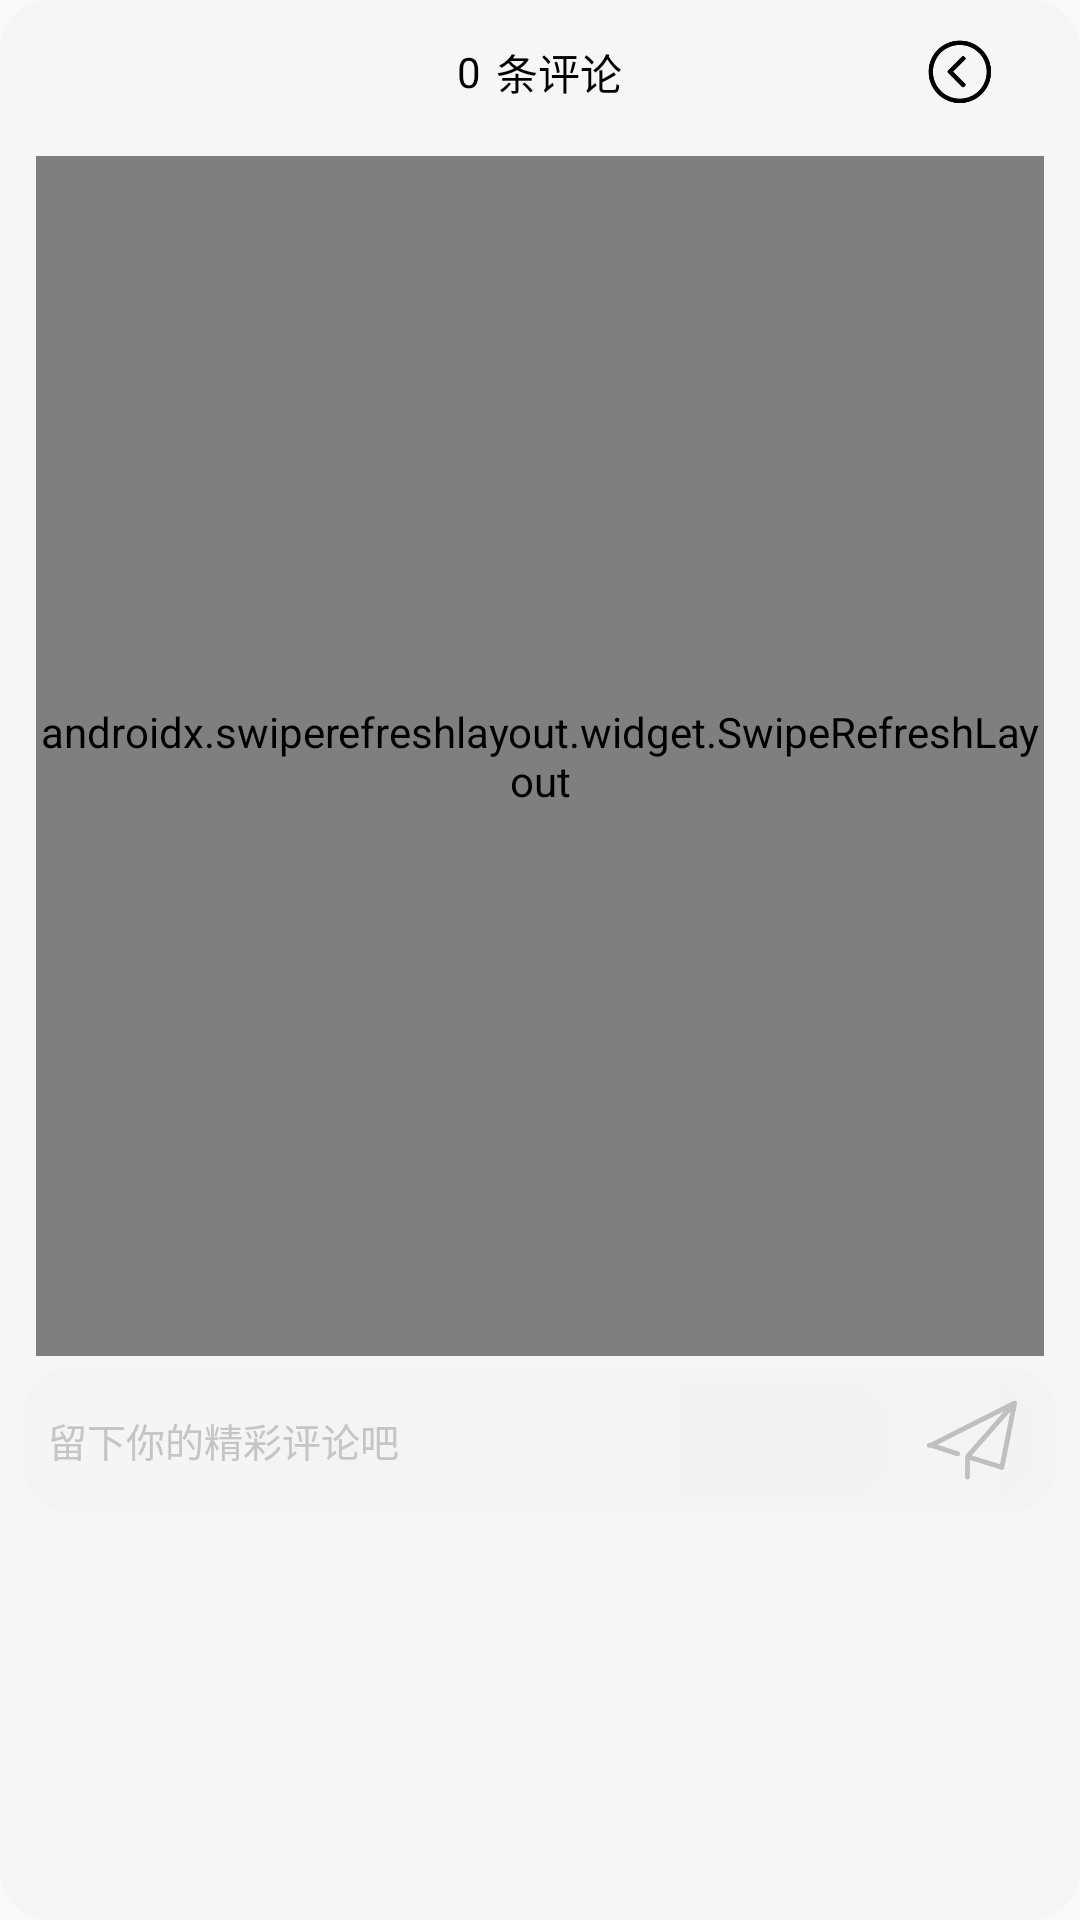

Screen size 1080px x 1920px. Icon name, then its box in pixels as box(x1, y1, x2, y2):
back: box(928, 40, 991, 103)
fly: box(927, 1401, 1017, 1479)
